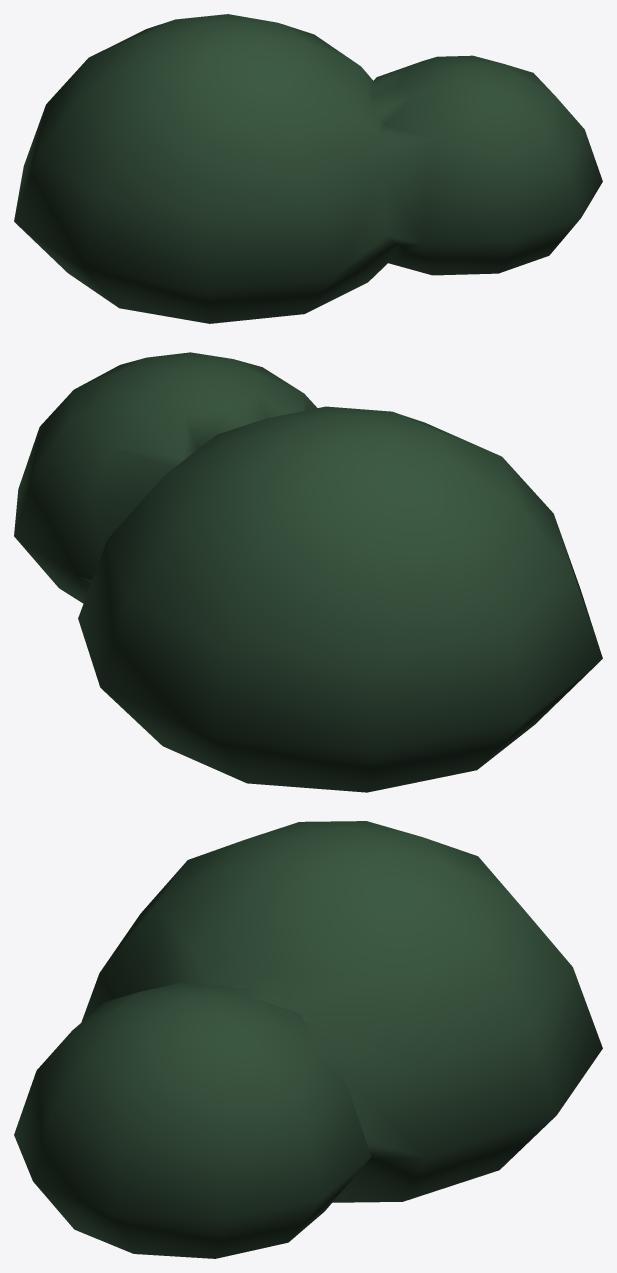
The model's file is plants-bushes-twigs-round-bush_v8.glb.
3 renders of one model, top to bottom at view 1: azimuth 30°, elevation 25°; view 2: azimuth 150°, elevation 25°; view 3: azimuth 270°, elevation 25°, orthographic. The views are drawn at different scales.
Visible parts, largest first — view 1: Round Bush_v8; view 2: Round Bush_v8; view 3: Round Bush_v8.
Part boxes in pixels (x1=…): Round Bush_v8: x1=14, y1=14, x2=602, y2=323; Round Bush_v8: x1=14, y1=352, x2=602, y2=792; Round Bush_v8: x1=14, y1=821, x2=602, y2=1258.
Size of the model in its own units: 1 by 0.4864 by 0.849.
